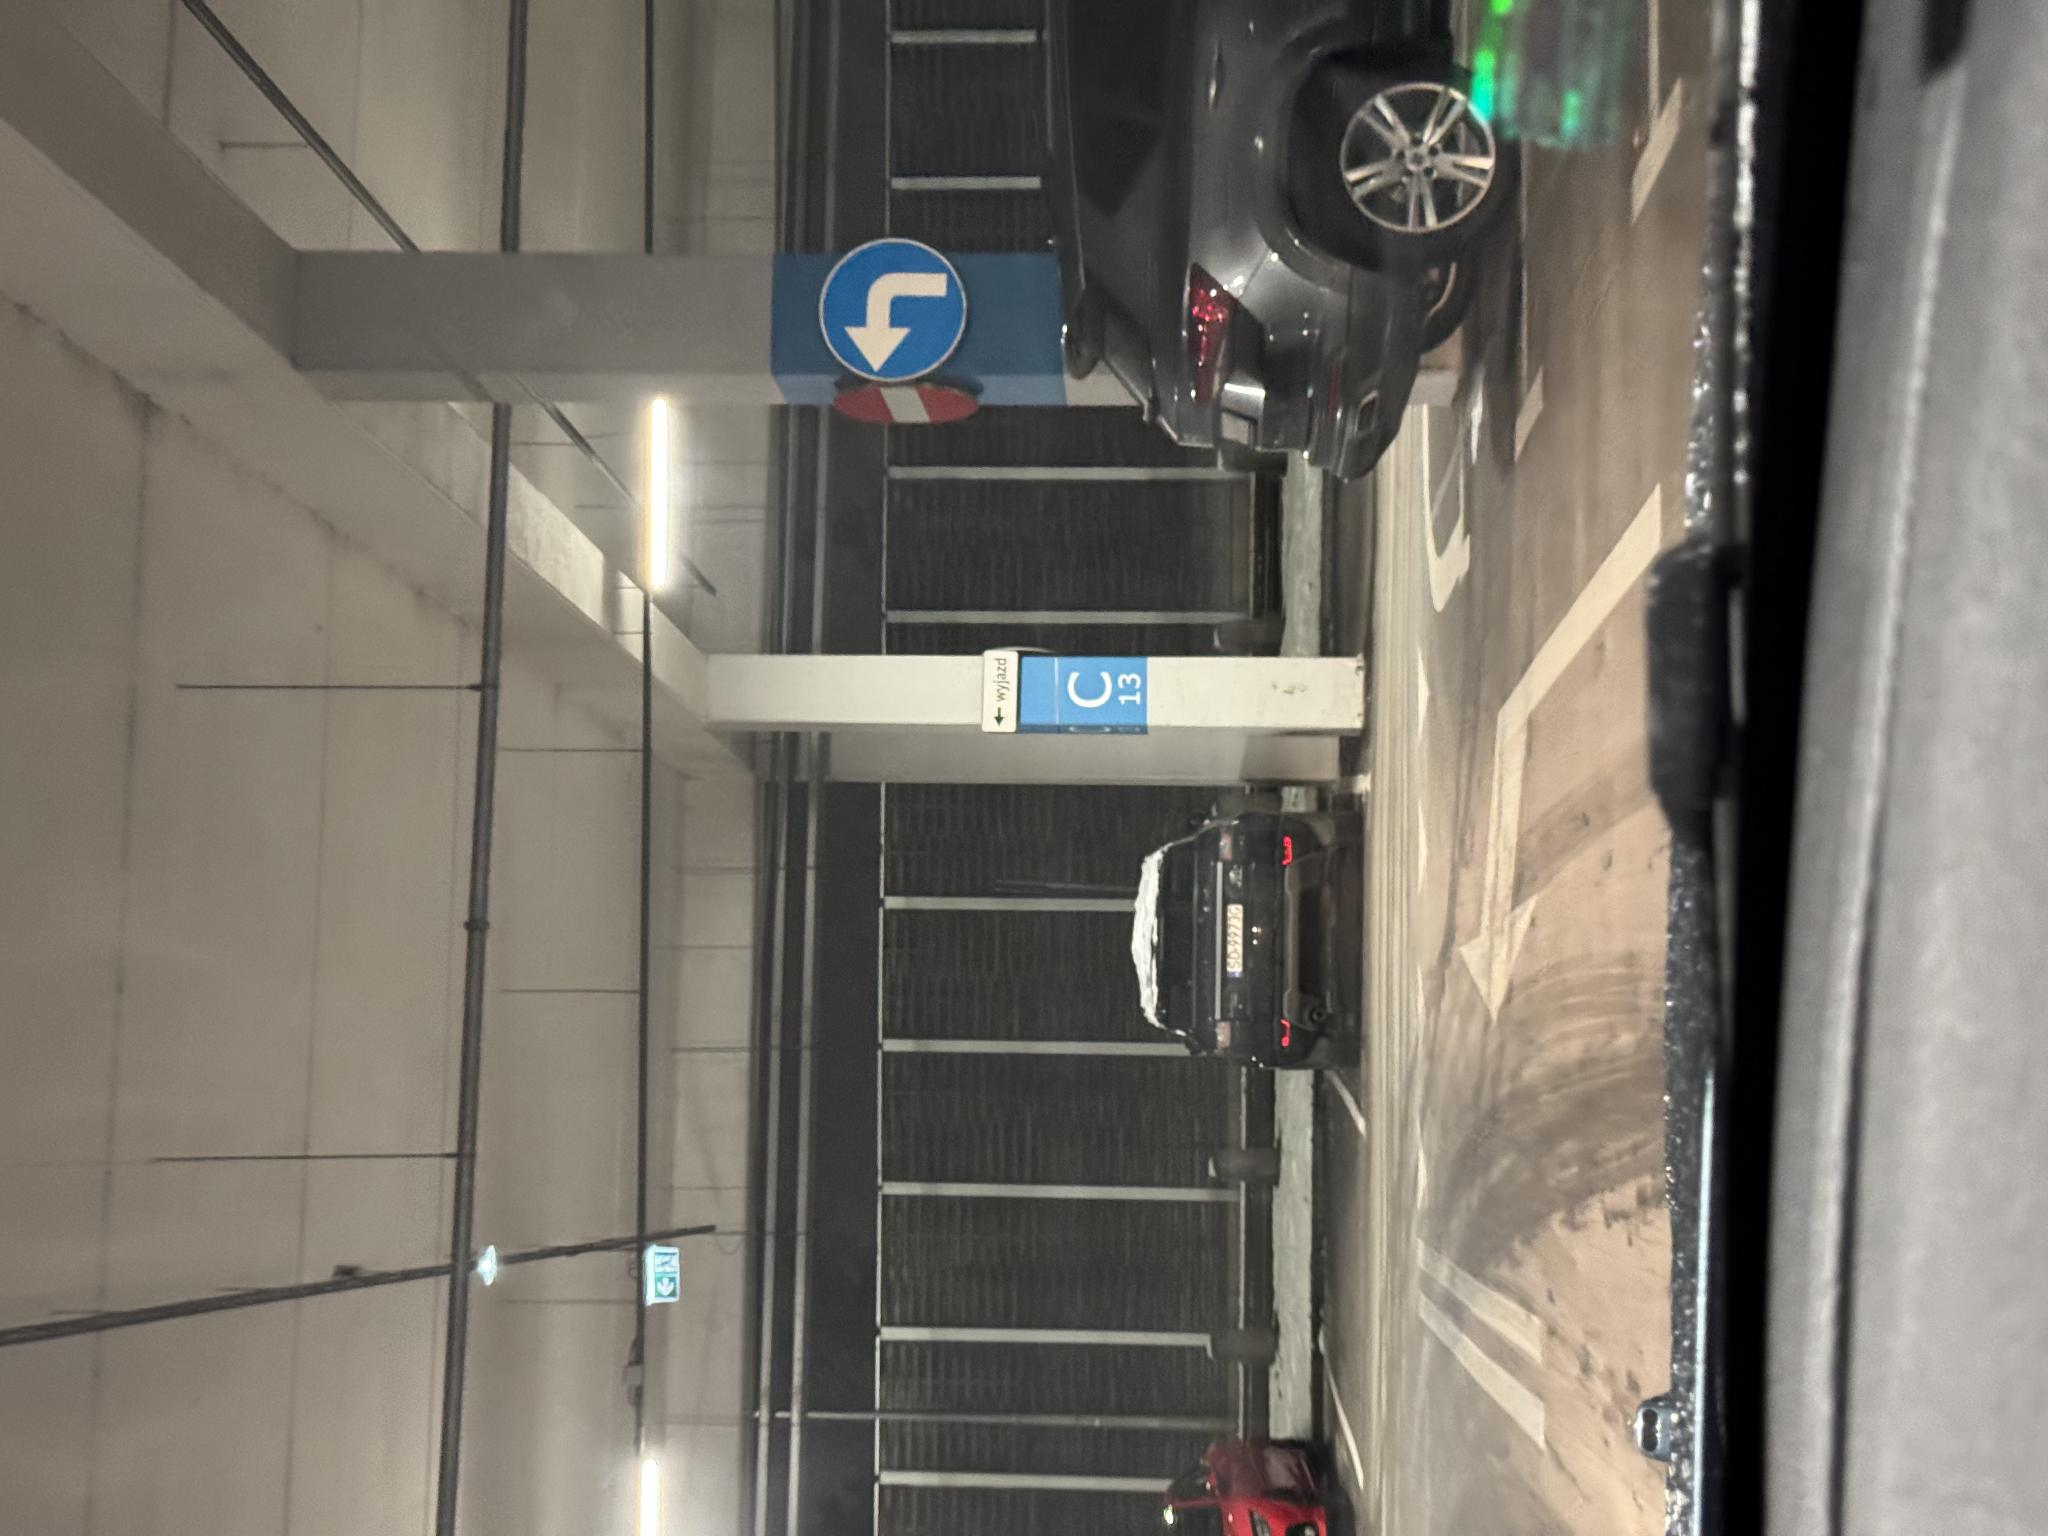mandatory: (1153, 818, 1300, 973)
prohibitory: (1111, 831, 1155, 979)
